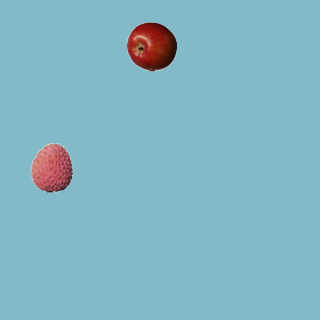Apple Braeburn: (126, 21, 176, 71)
Lychee: (26, 142, 76, 192)
